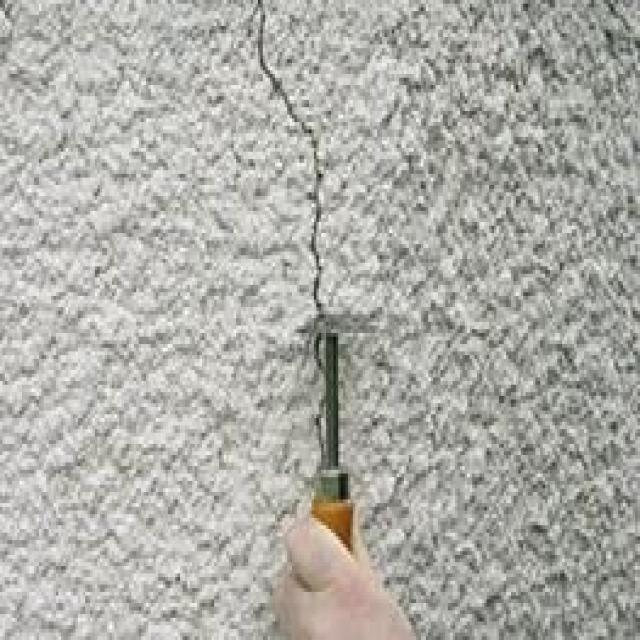crack: (255, 2, 325, 311), (310, 327, 329, 469)
